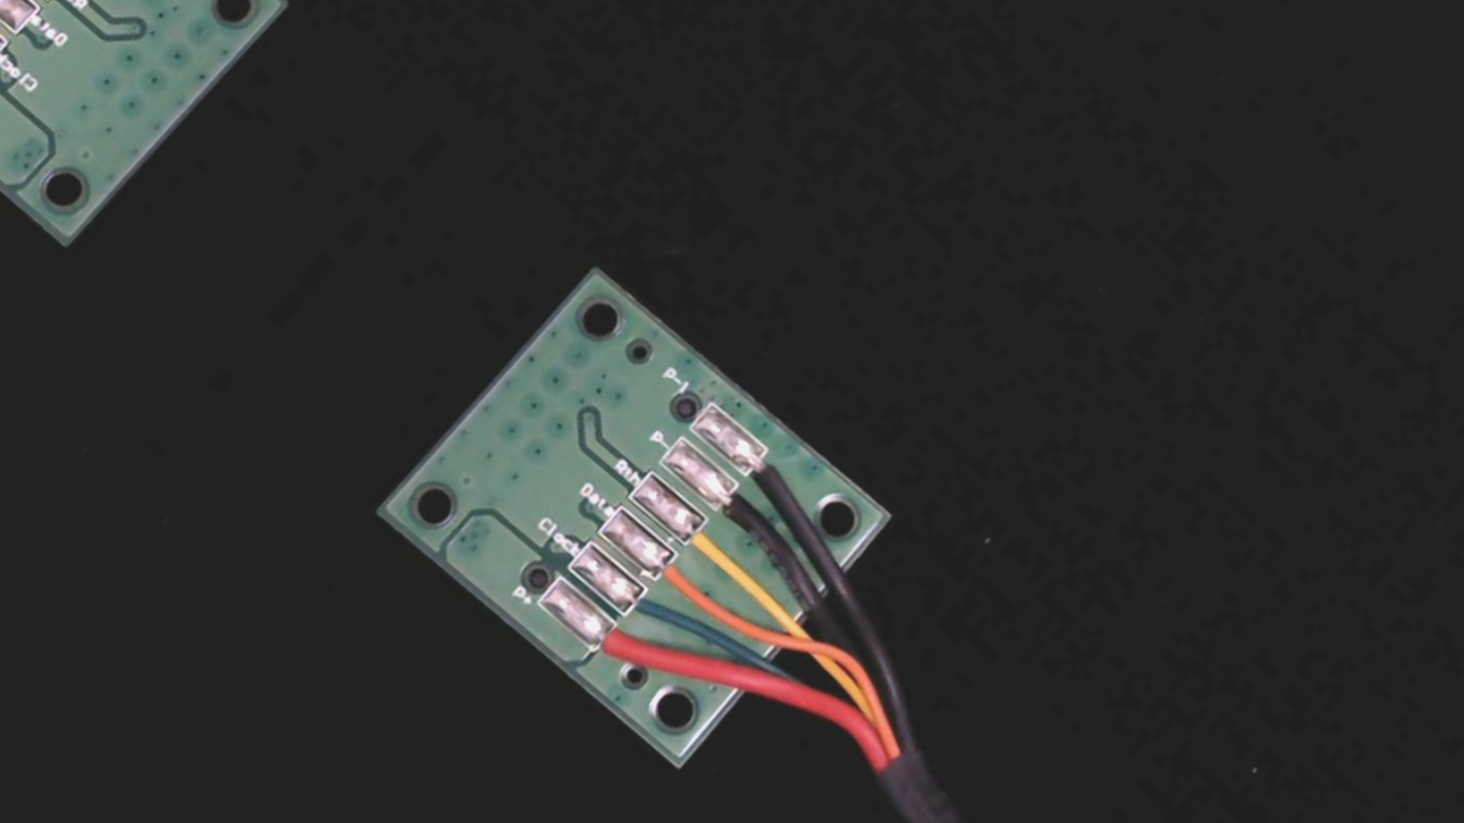Black: (703, 474, 790, 557)
Black1: (734, 438, 815, 515)
Green: (608, 574, 688, 650)
Orange: (640, 543, 728, 625)
Red: (577, 609, 659, 687)
Yellow: (669, 506, 759, 592)
